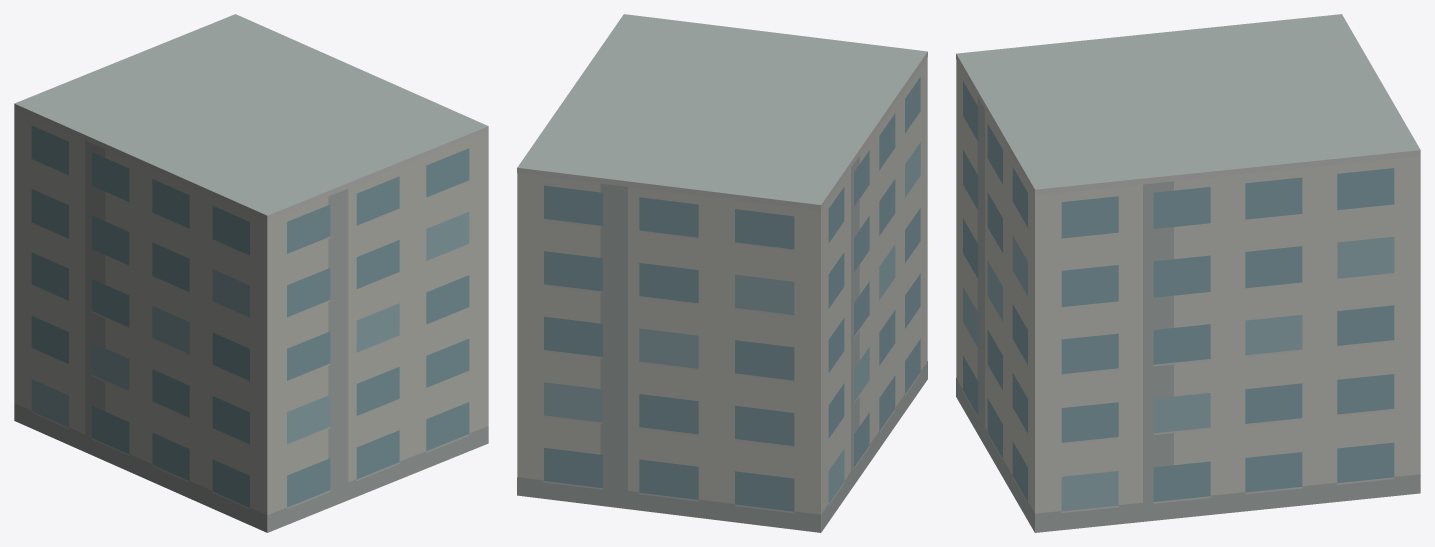
File: survey-upis-32792534.glb
The picture shows the model from 3 angles, left to right: view 1: azimuth 30°, elevation 25°; view 2: azimuth 150°, elevation 25°; view 3: azimuth 270°, elevation 25°; orthographic projection. The views are drawn at different scales.
Parts seen in each view (by area): view 1: survey-upis-32792534.tmp; view 2: survey-upis-32792534.tmp; view 3: survey-upis-32792534.tmp.
Part boxes in pixels (left/top/right/bottom): survey-upis-32792534.tmp: left=14, top=14, right=488, bottom=532; survey-upis-32792534.tmp: left=517, top=14, right=927, bottom=532; survey-upis-32792534.tmp: left=956, top=14, right=1420, bottom=532.
Size of the model in its own units: 15.59 by 14.2 by 17.43.
